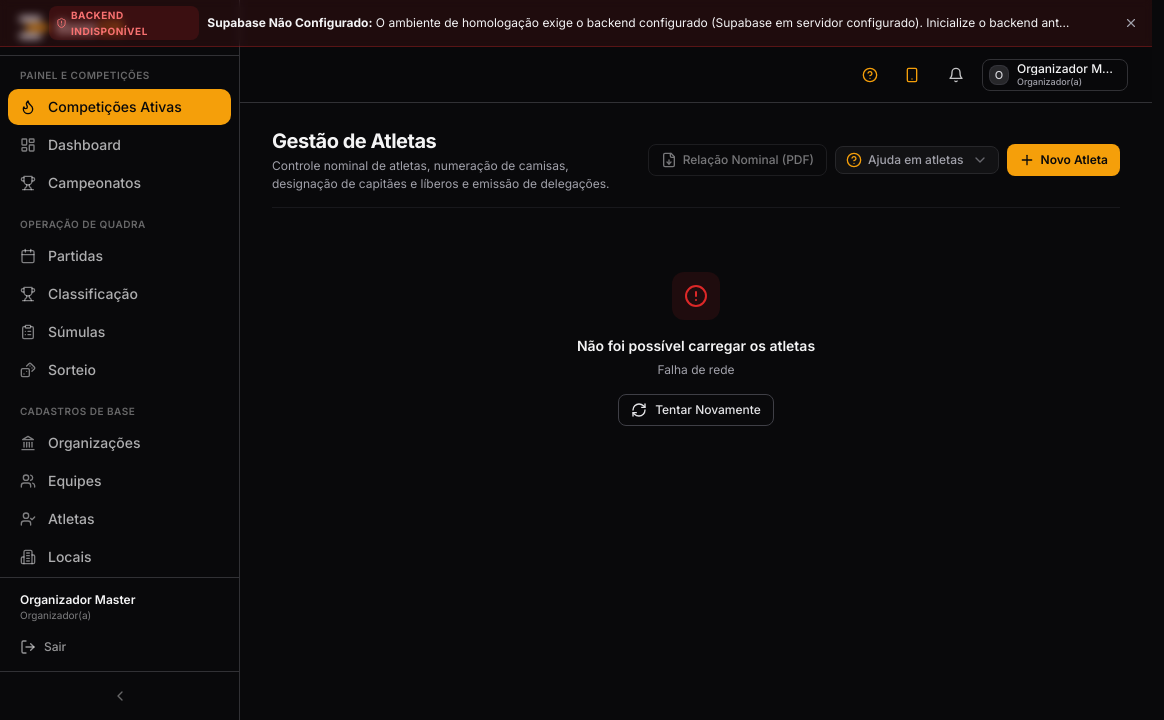
AthletesPage Component (Fase 5.2) › exibe estado de erro amigável com retry quando o carregamento falha
Expected: the message "Não foi possível carregar os atletas Falha de rede Tentar Novamente" is shown, [577,272,815,426]
Expected: the text "Não foi possível carregar os atletas" is shown, [577,336,815,356]
Click the button "Tentar Novamente" at (696, 410), box [618,394,774,426]
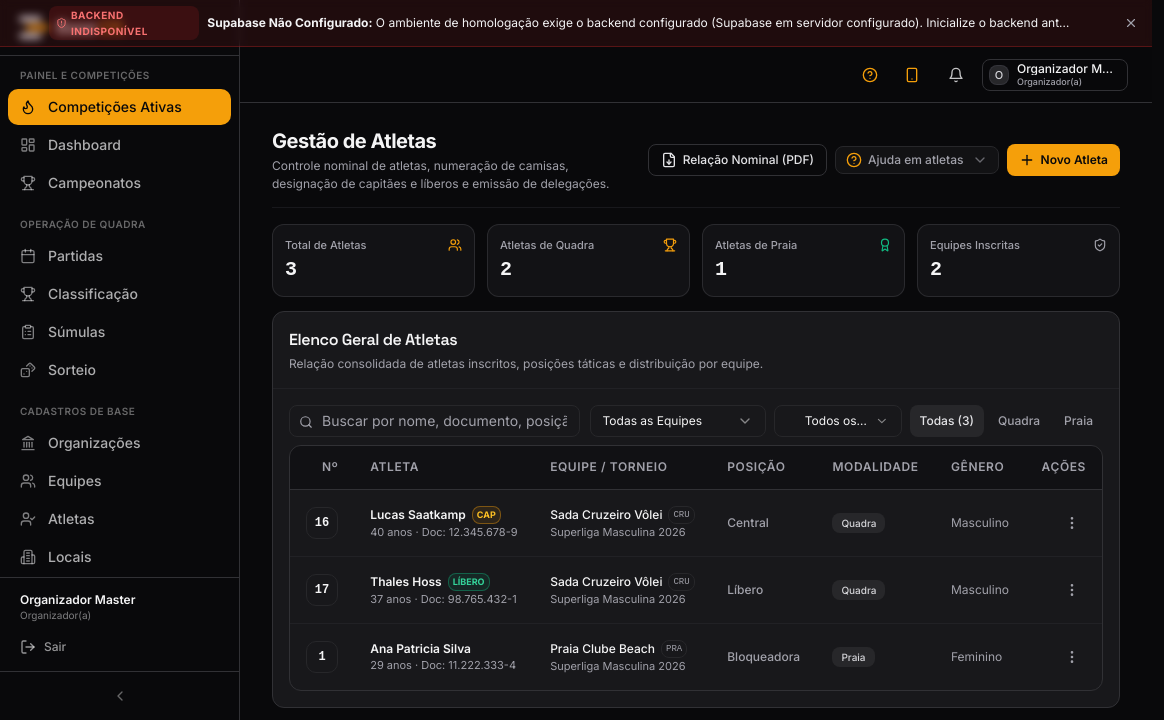
Result: the text "Lucas Saatkamp" is shown at [370,507,466,523]
